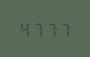four: (18, 19, 30, 36)
seven: (44, 19, 56, 37), (31, 19, 43, 36), (57, 20, 69, 37)
